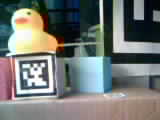duck: (7, 9, 62, 57)
